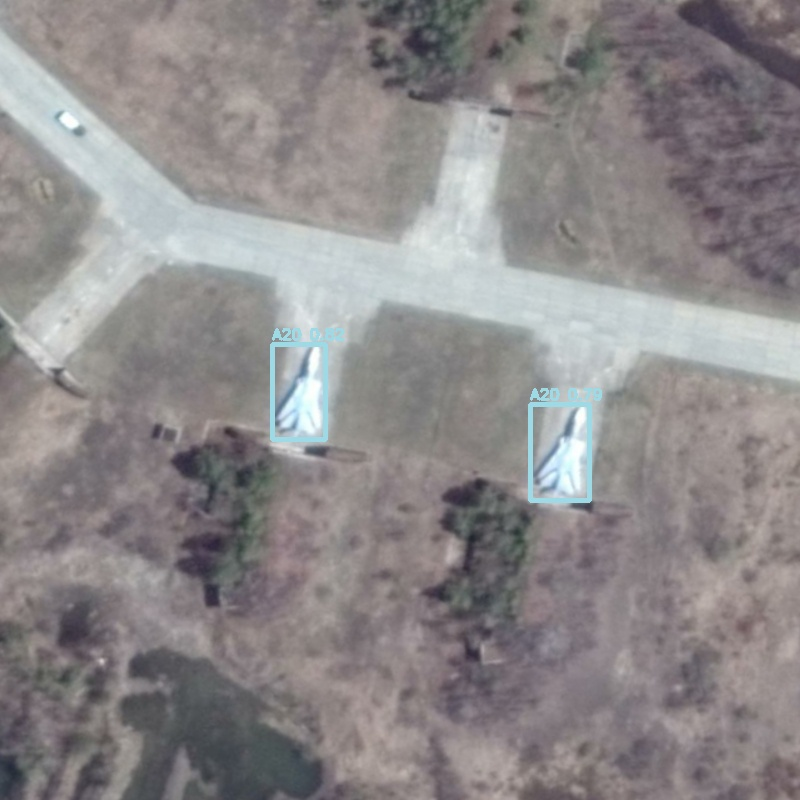A20: (530, 404, 589, 500), (272, 344, 325, 439)
